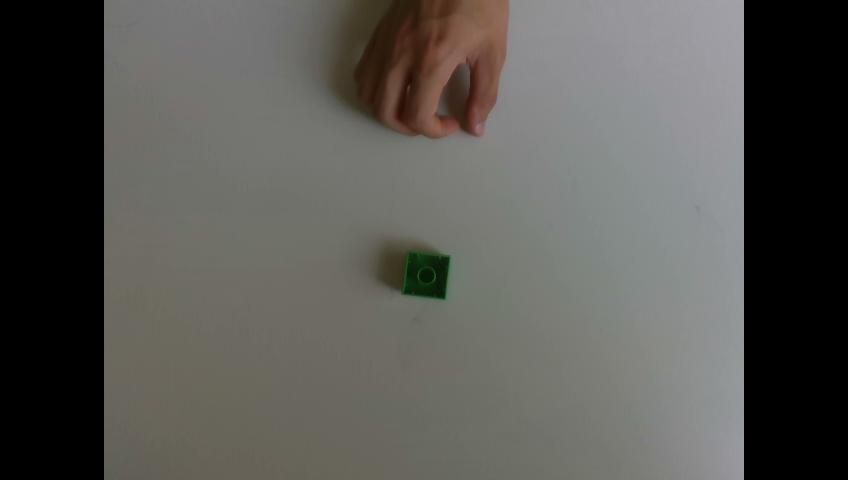2x2_green: (401, 248, 455, 298)
